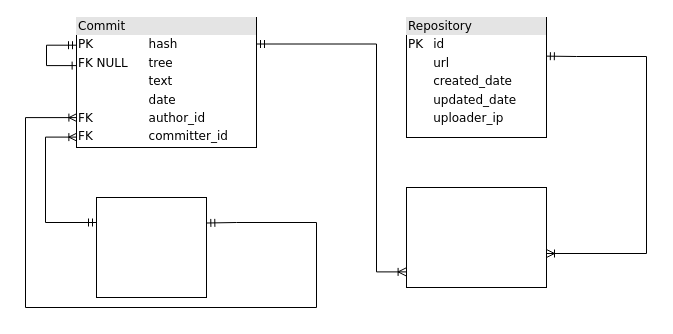
Some shapes in this 673 by 334 pixel diagram are drawn without their labels. Each missing label, with the centre of its shape:
"Branch PK id name FK repository_id FK head" belongs at (476,237).
"Person PK id email name hash_md5" belongs at (151,247).
